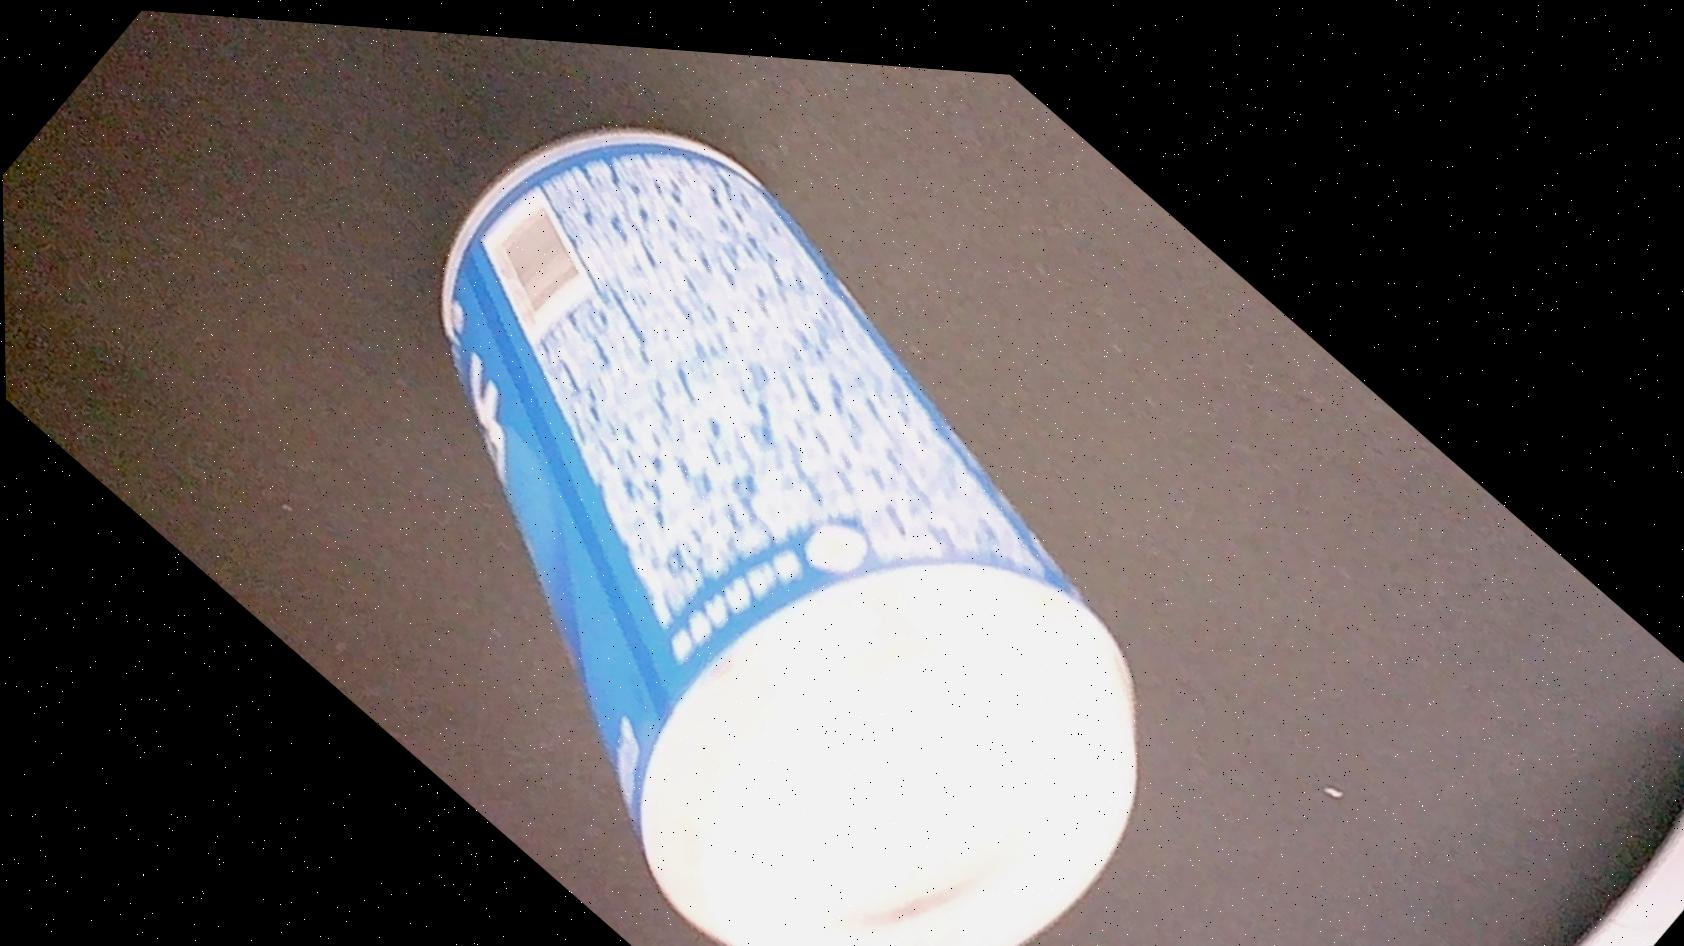letsbe: (204, 12, 1298, 946)
